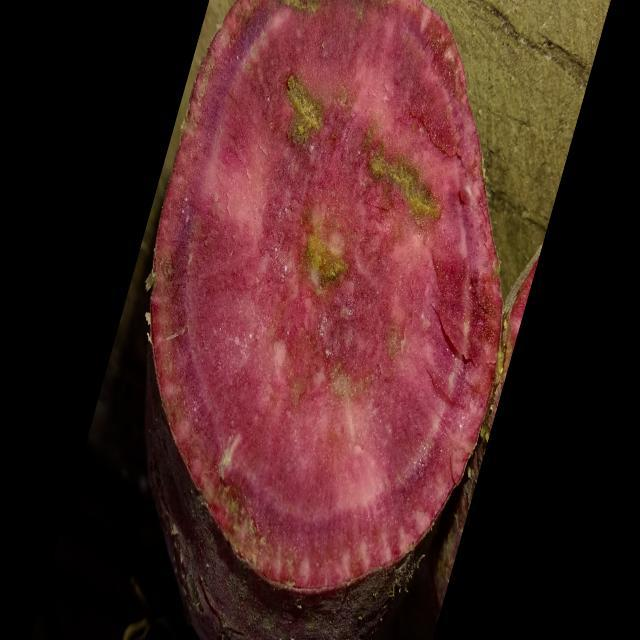Sick Sweet Potato_Tuber Rot: (150, 2, 501, 591)
